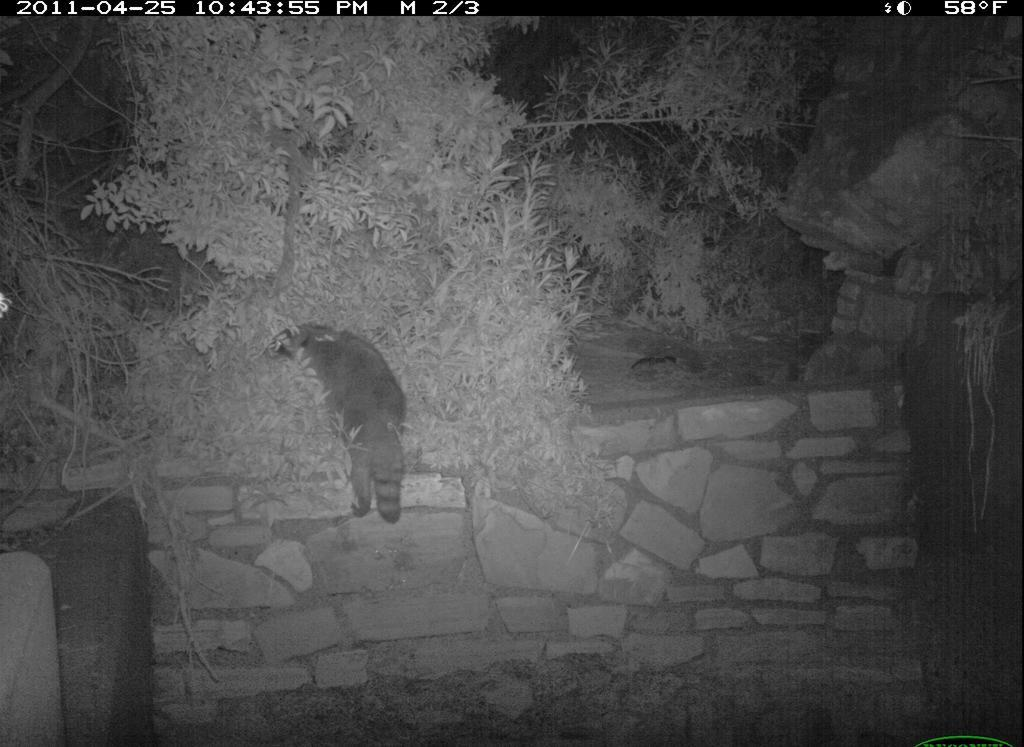raccoon: (249, 300, 468, 541)
